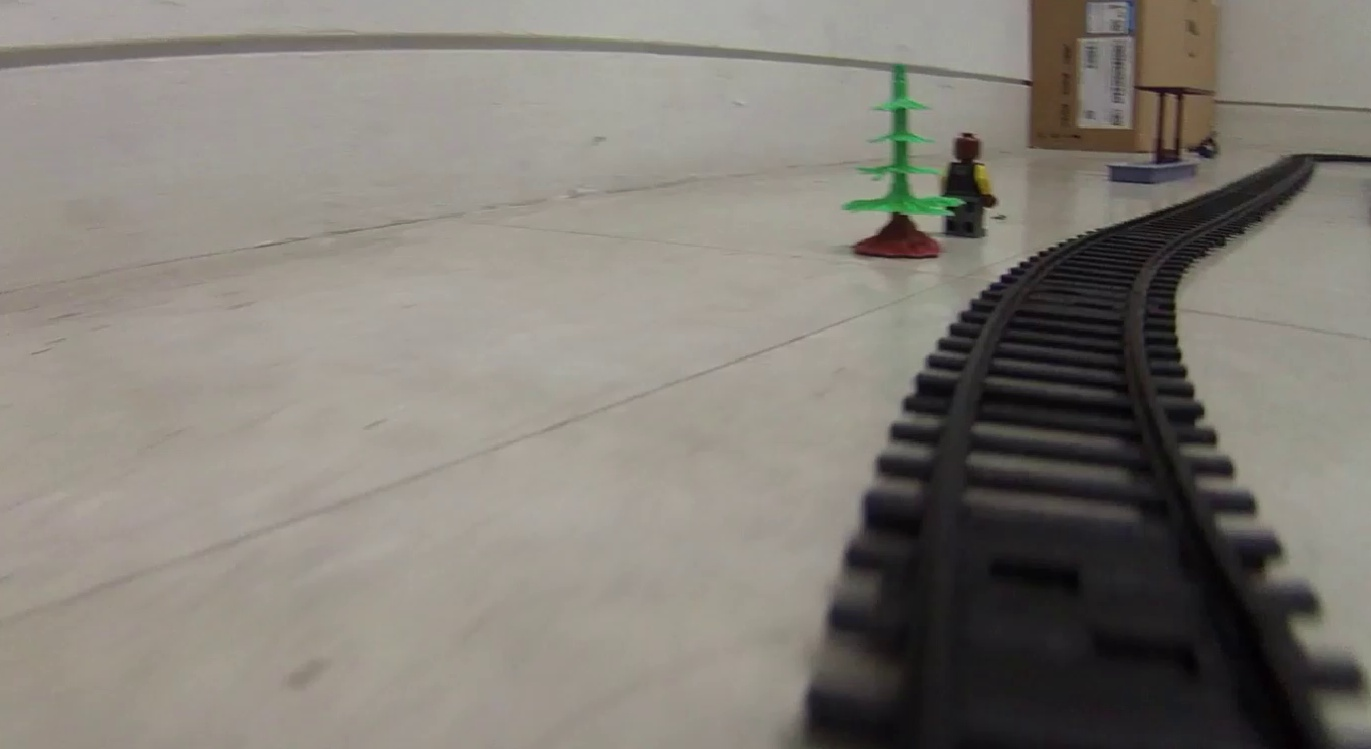people: (943, 130, 993, 238)
tree: (842, 64, 964, 264)
